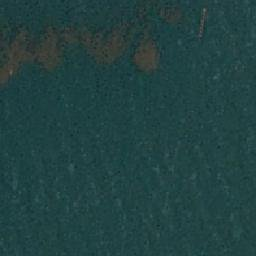debris: (1, 33, 29, 78), (95, 35, 129, 60), (135, 34, 158, 70), (39, 31, 58, 65), (55, 27, 80, 44), (84, 32, 97, 56)
